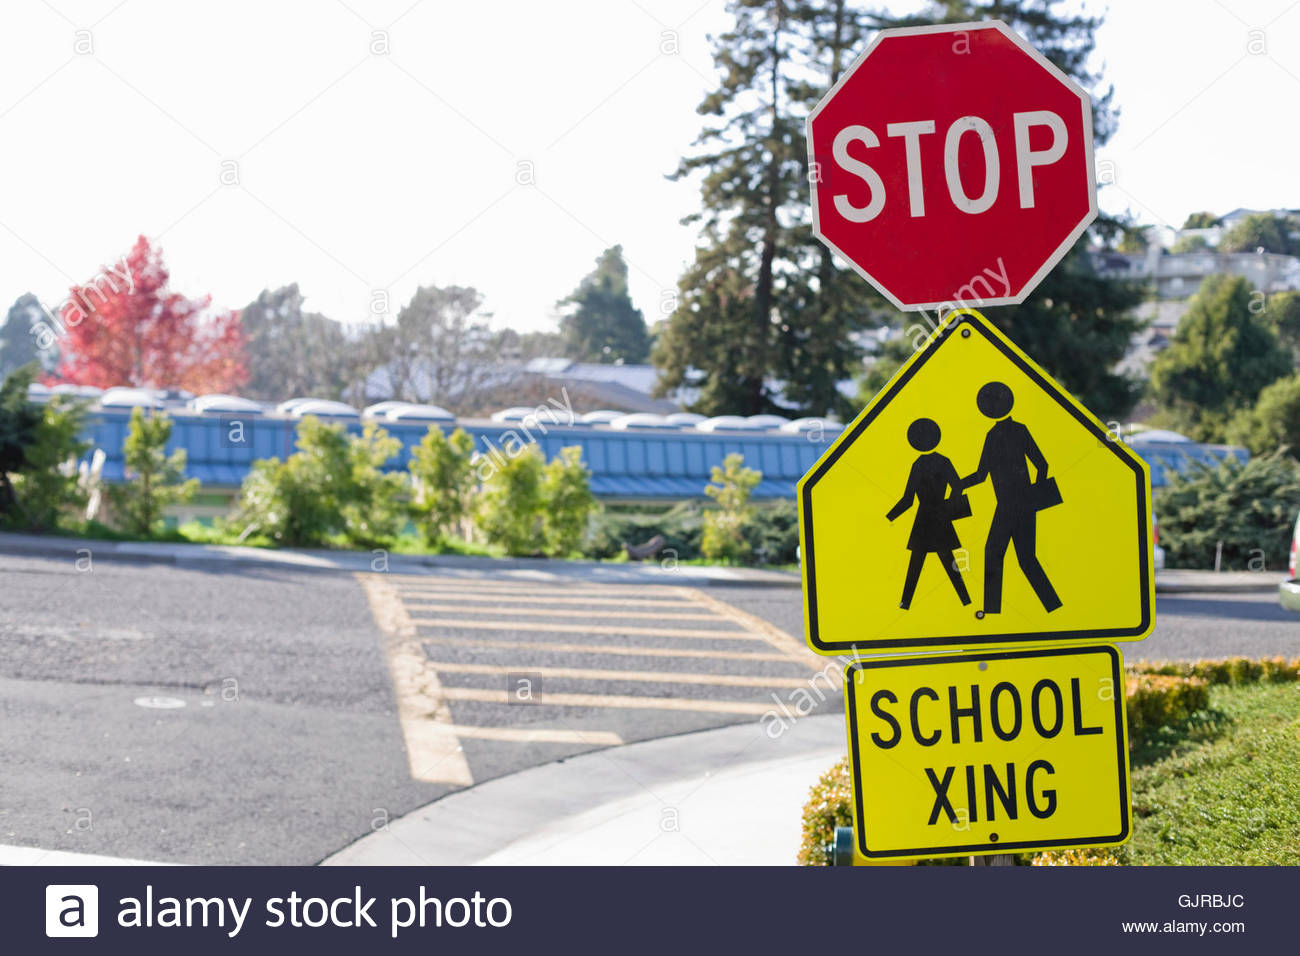slow: (796, 317, 1160, 644)
stop: (809, 19, 1101, 310)
